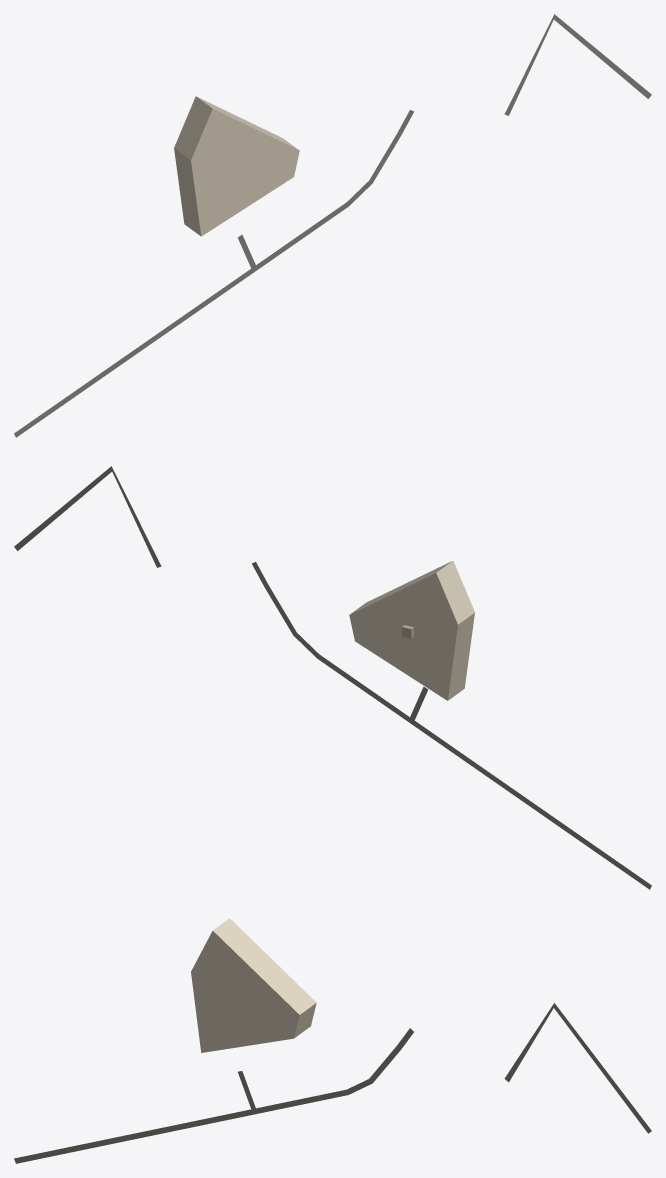
Rendered from historic-palestine-04_23_3464_3176.glb.
The picture shows the model from 3 angles, top to bottom: view 1: azimuth 30°, elevation 25°; view 2: azimuth 150°, elevation 25°; view 3: azimuth 330°, elevation 25°; orthographic projection.
Parts seen in each view (by area): view 1: Building_, Road, Road .001; view 2: Building_, Road, Road .001; view 3: Building_, Road, Road .001.
Part boxes in pixels (left/top/right/bottom): Building_: left=174, top=96, right=299, bottom=236; Road: left=14, top=110, right=413, bottom=437; Road .001: left=504, top=14, right=651, bottom=115; Building_: left=349, top=561, right=474, bottom=700; Road: left=252, top=562, right=651, bottom=889; Road .001: left=14, top=466, right=161, bottom=567; Building_: left=191, top=918, right=316, bottom=1052; Road: left=14, top=1028, right=413, bottom=1163; Road .001: left=504, top=1003, right=651, bottom=1133.
Size of the model in its own units: 163 by 71.3 by 8.7.
